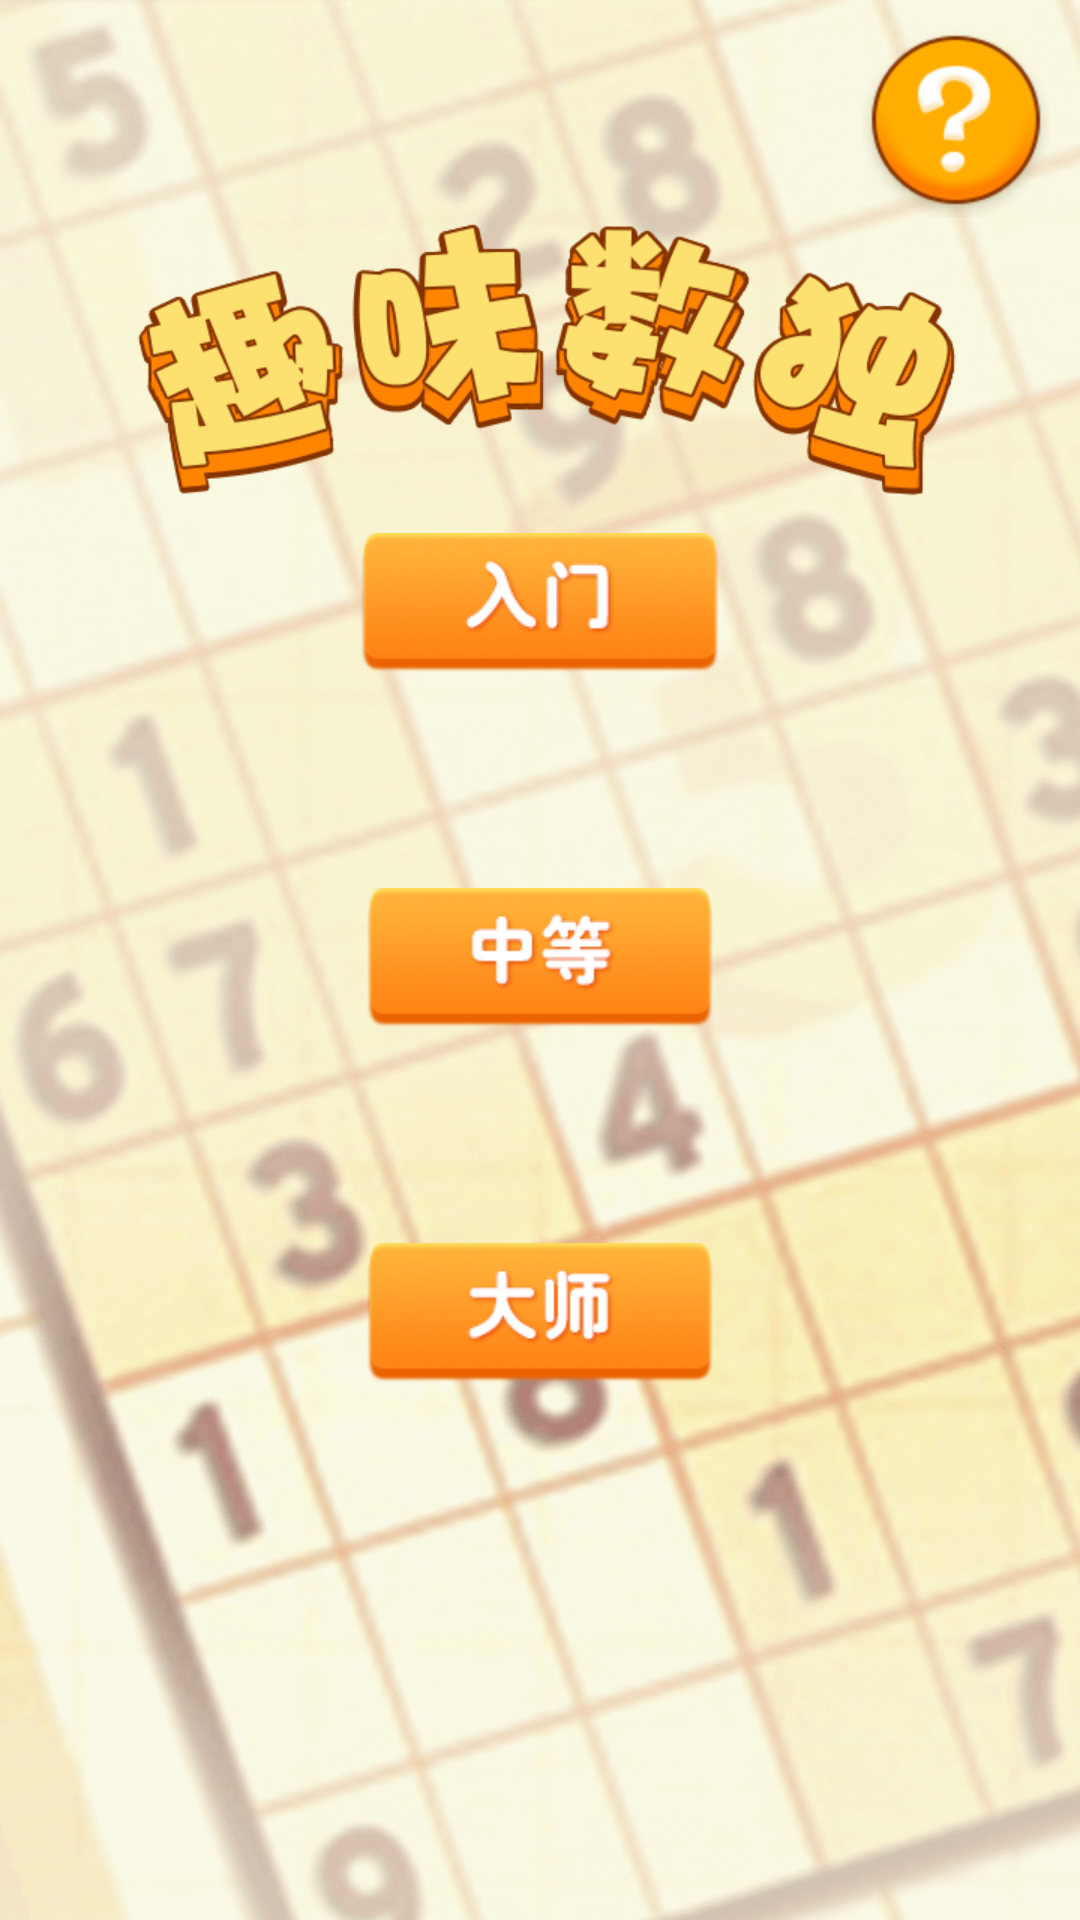

Where icons sit on this 1080px x 1920px app screen, as (x1, y1, x2, y2):
help: (862, 31, 1050, 218)
